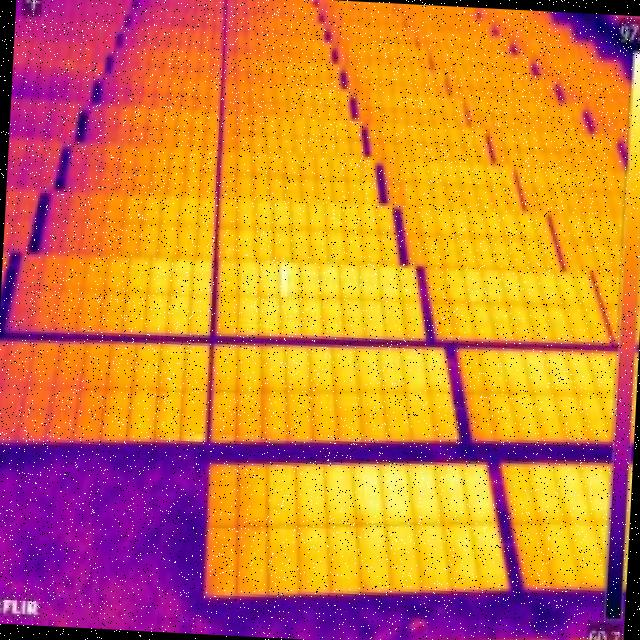Hotspot: (278, 256, 293, 300)
